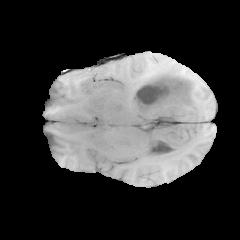glioma: (132, 66, 197, 111)
